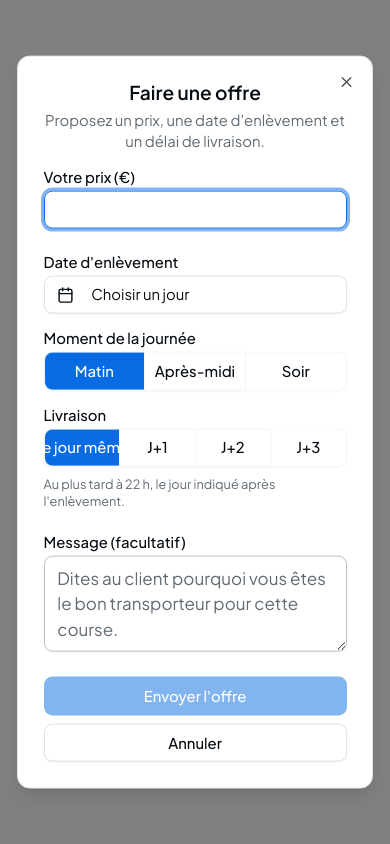
Scenario: ThreadOfferDialog — the price box › opens blank with no job to price, and reads « 040 » as « 40 »
Step 1. Type "040" into the field labelled "Votre prix (€)" → (195, 210), box [44,190,346,229]
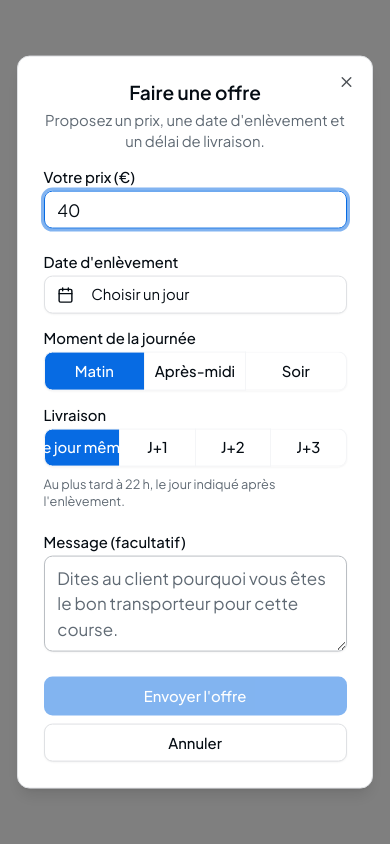
Now the field labelled "Votre prix (€)" holds "40", box [44,190,346,229]
